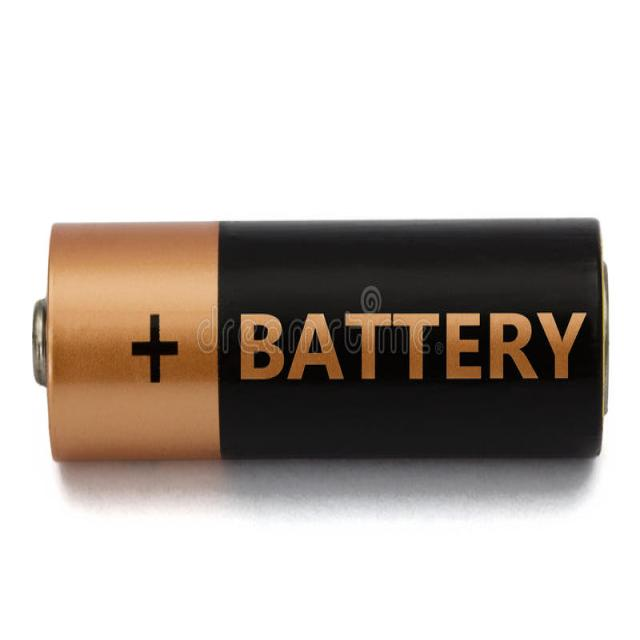Hazard: (30, 225, 609, 464)
